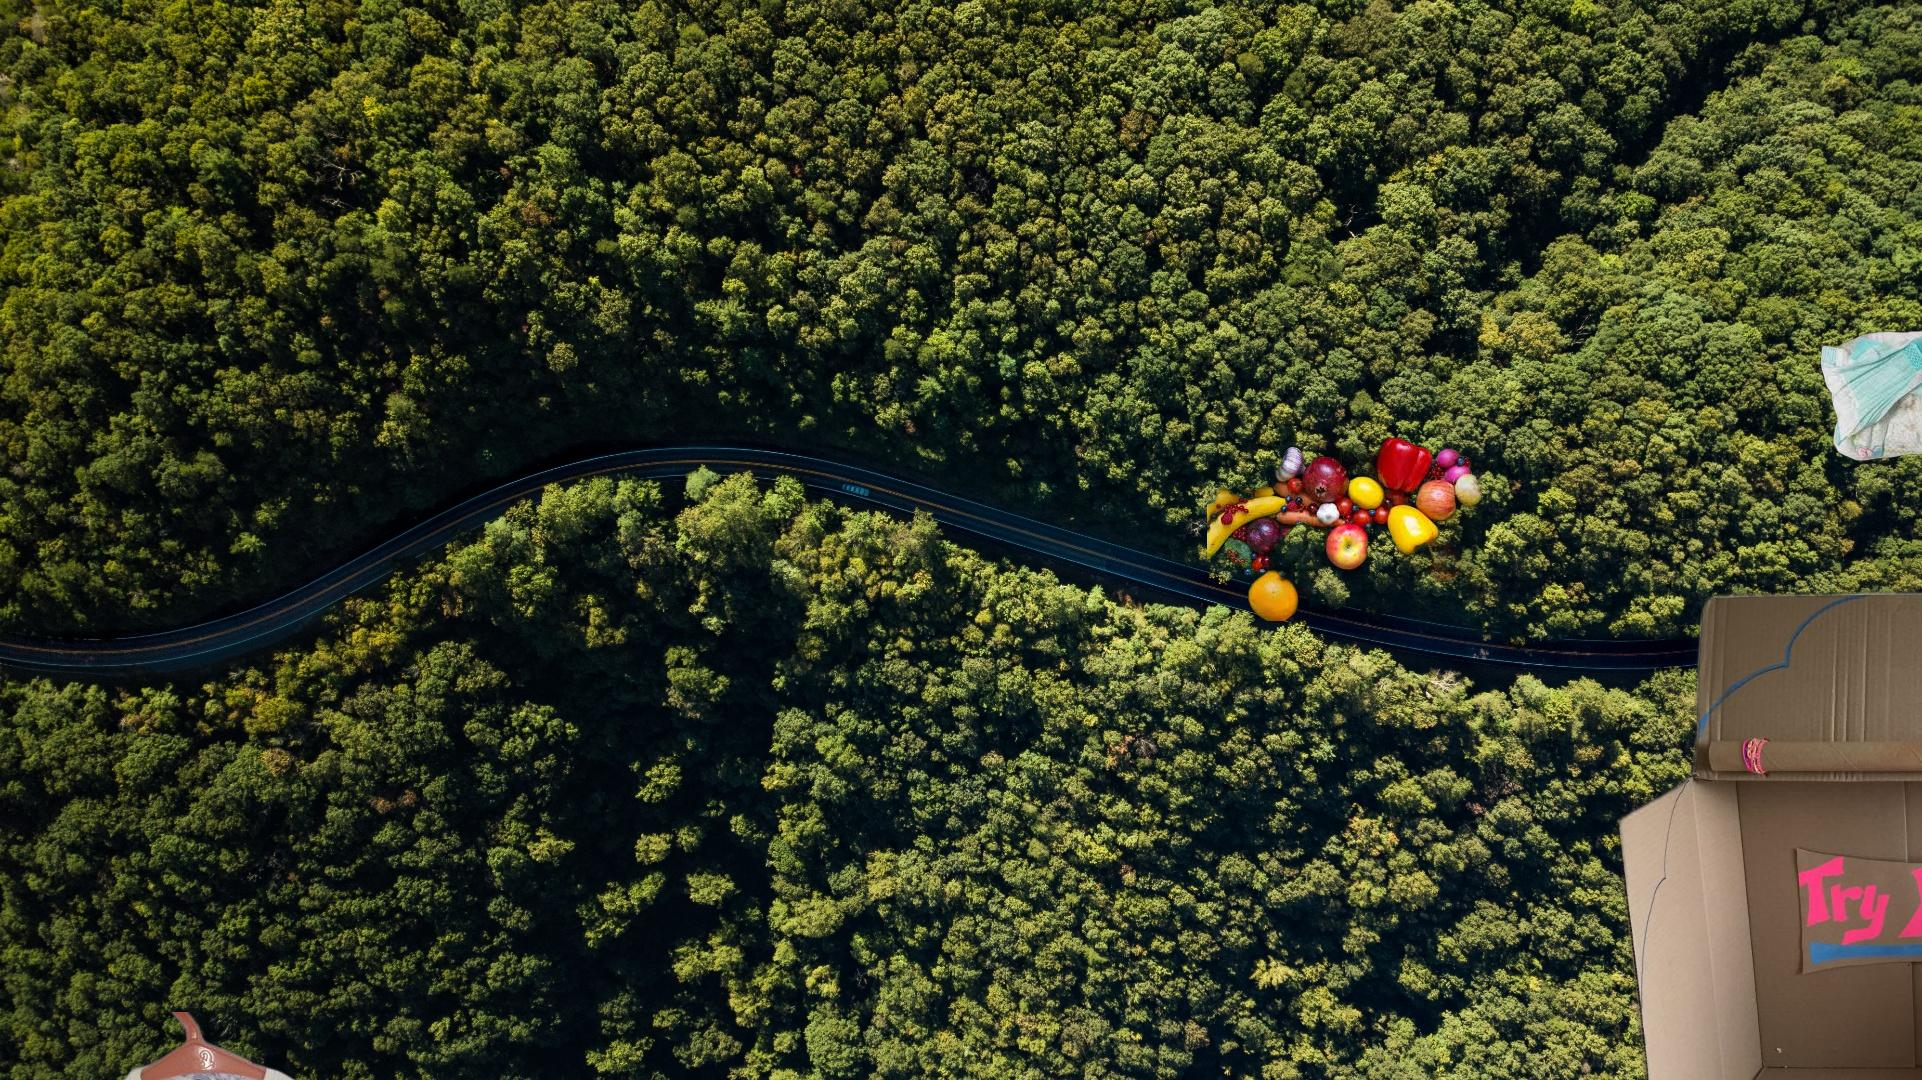biological: (1207, 438, 1482, 621)
clothes: (26, 1011, 416, 1080)
shoes: (1603, 955, 1779, 1080)
trash: (1818, 327, 1922, 463)
trashbox-cardboard: (1613, 577, 1922, 1080)
